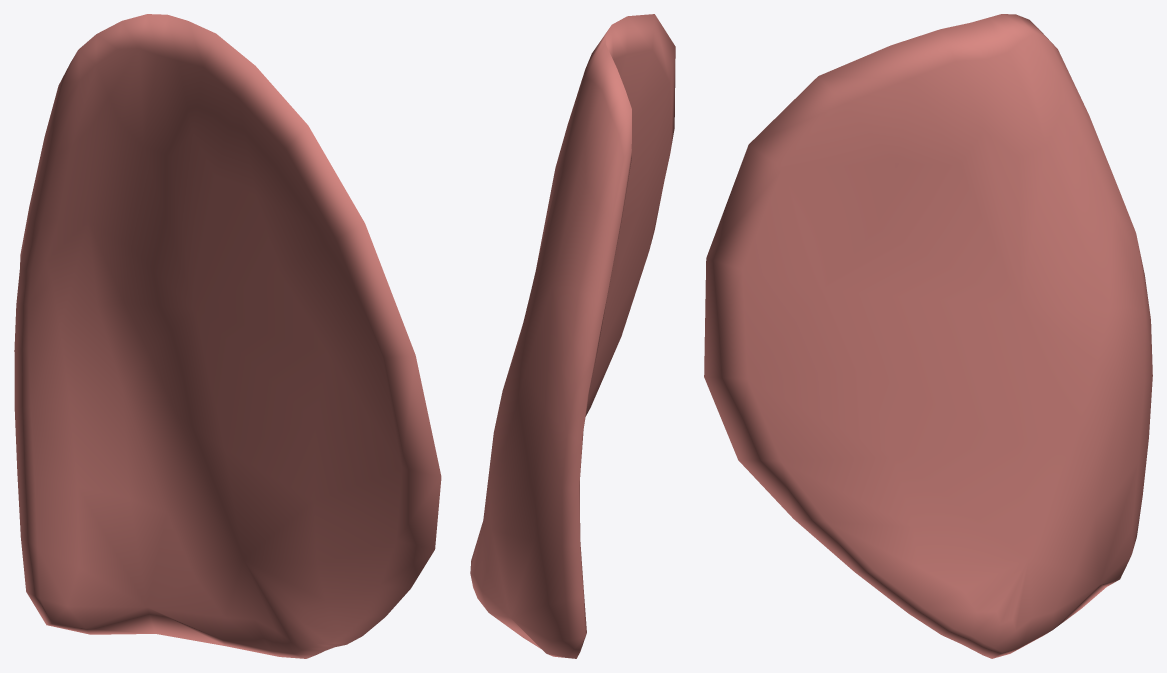
3 views of the same model, side by side, from view 1: azimuth 30°, elevation 25°; view 2: azimuth 150°, elevation 25°; view 3: azimuth 270°, elevation 25° (orthographic). The views are drawn at different scales.
Parts seen in each view (by area): view 1: ZA_3cf0cc06cf06ac33; view 2: ZA_3cf0cc06cf06ac33; view 3: ZA_3cf0cc06cf06ac33.
Part boxes in pixels (x1=…): ZA_3cf0cc06cf06ac33: x1=14, y1=14, x2=441, y2=658; ZA_3cf0cc06cf06ac33: x1=470, y1=14, x2=675, y2=658; ZA_3cf0cc06cf06ac33: x1=704, y1=14, x2=1152, y2=658.
Bounding box in the file's own units: 0.0032 × 0.00916 × 0.00638.
